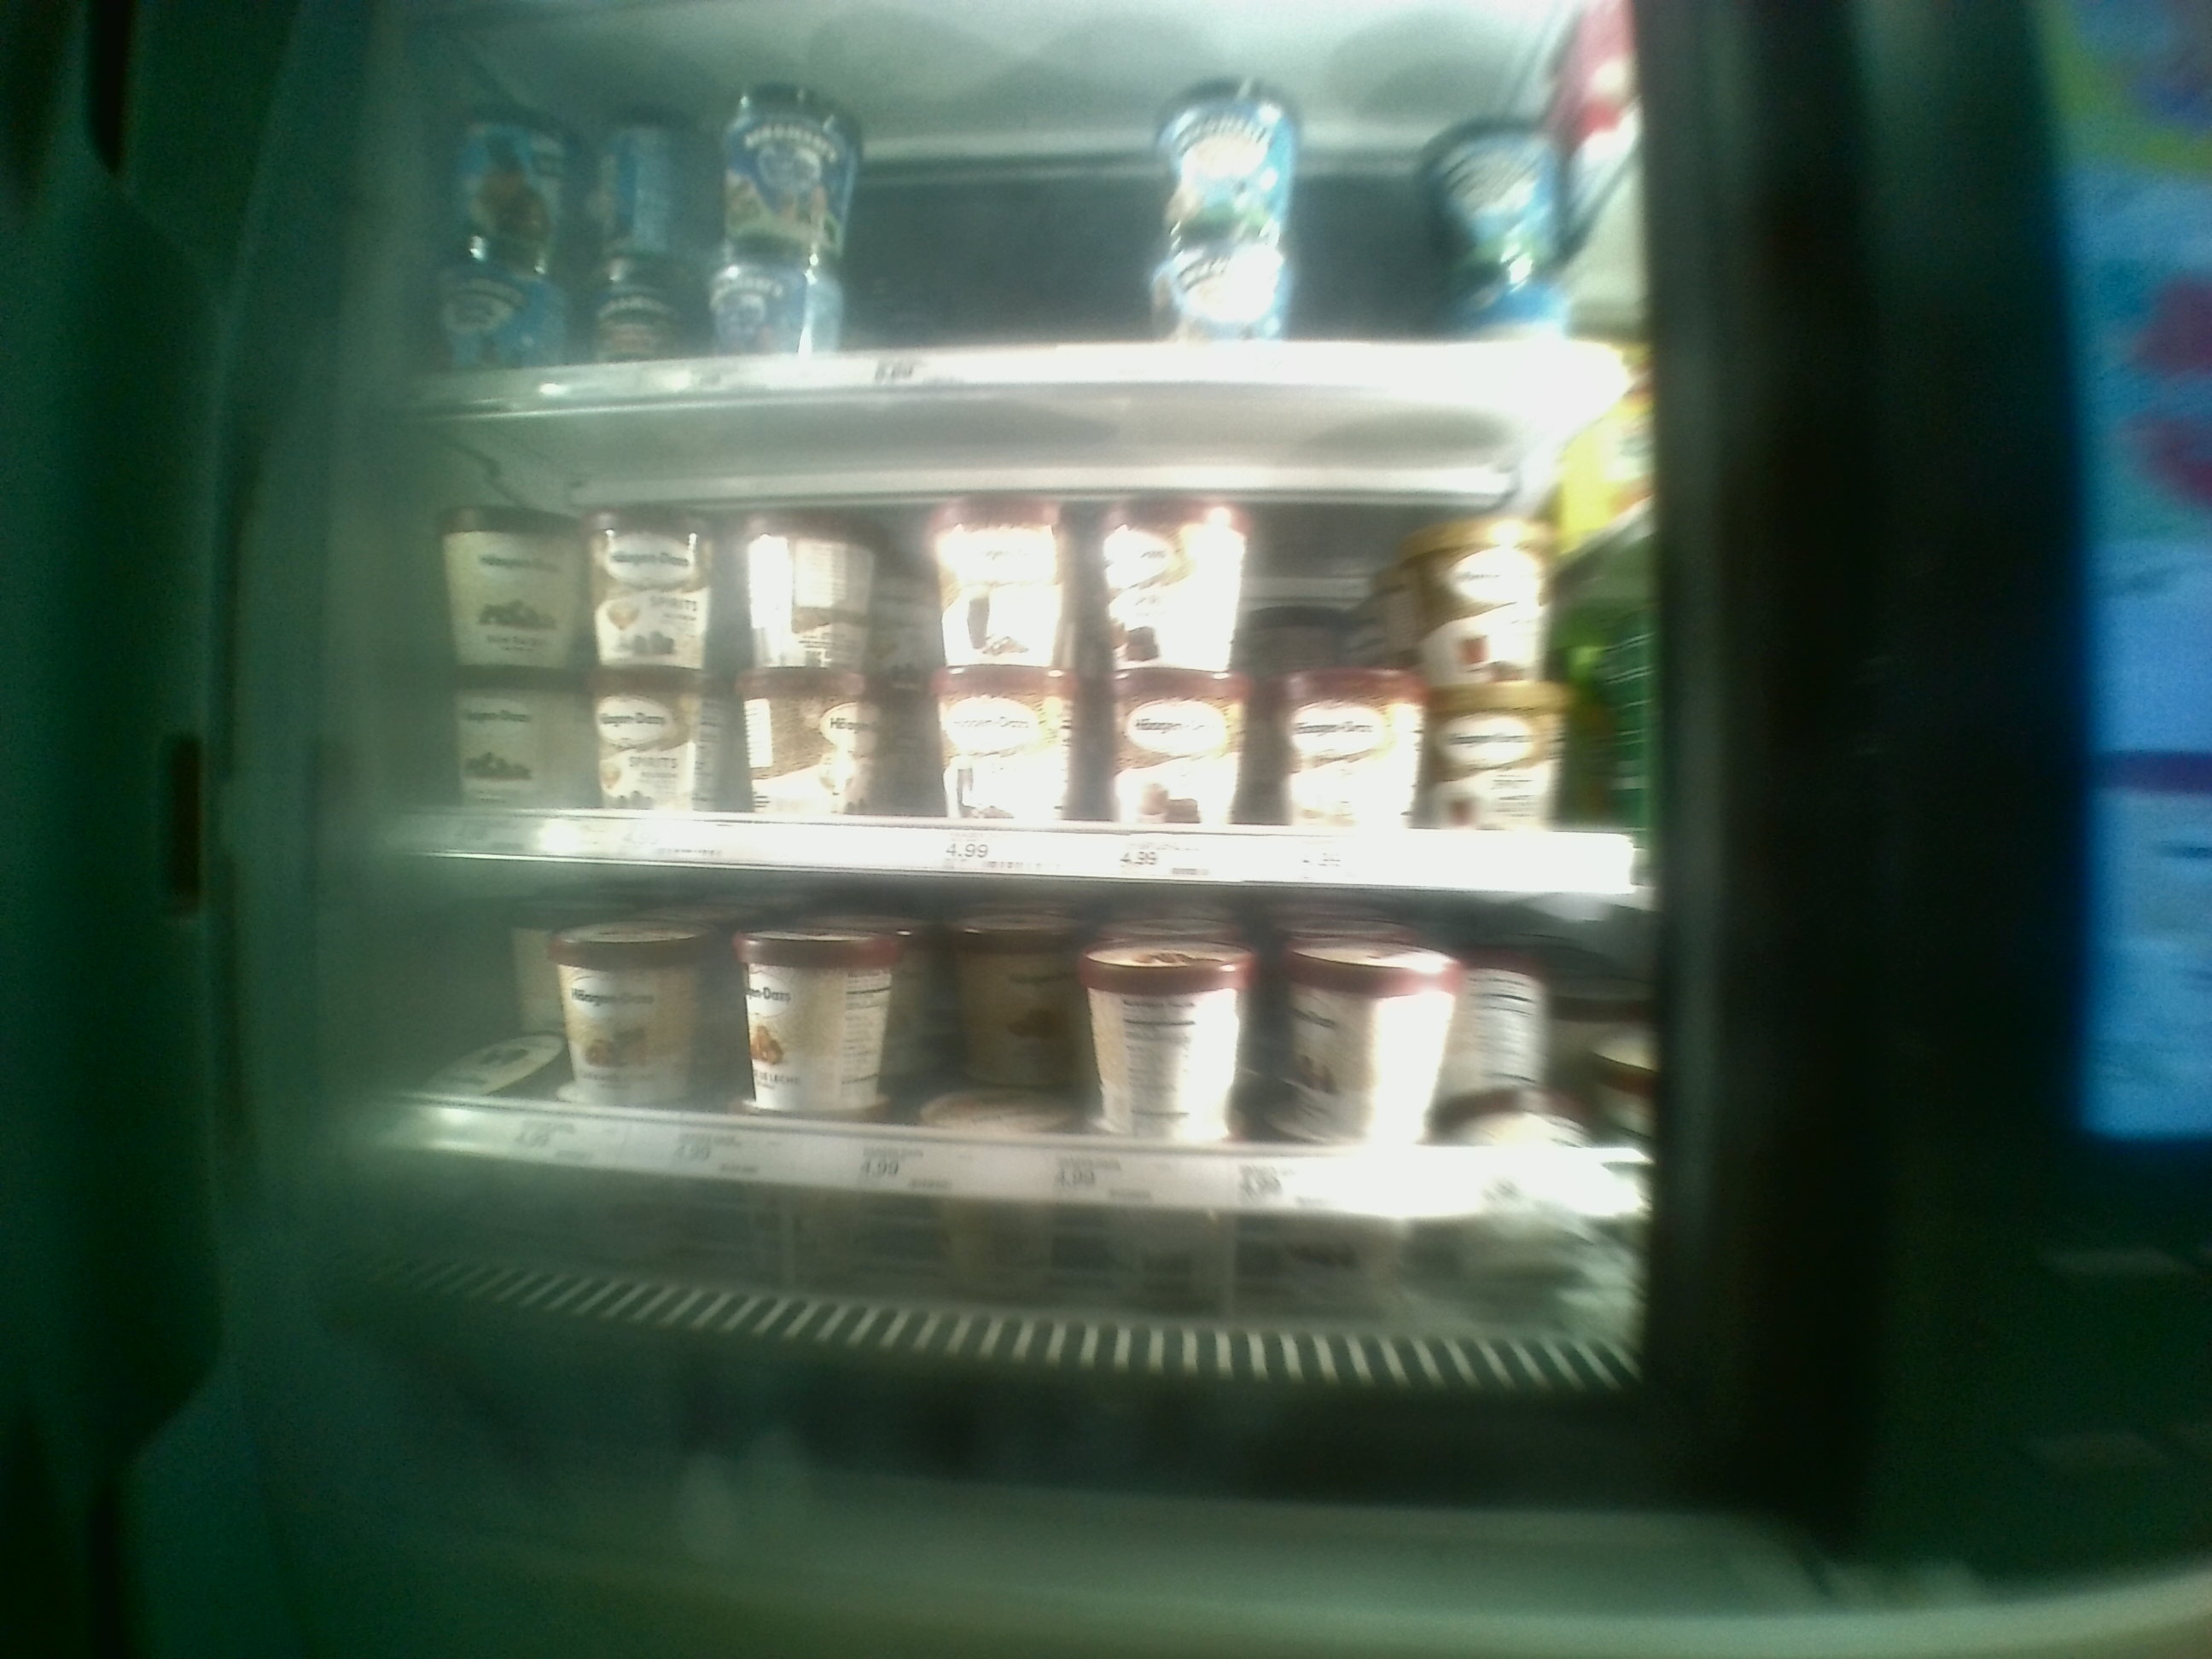ice-cream-shelf: (381, 422, 1646, 889), (371, 870, 1651, 1265)
